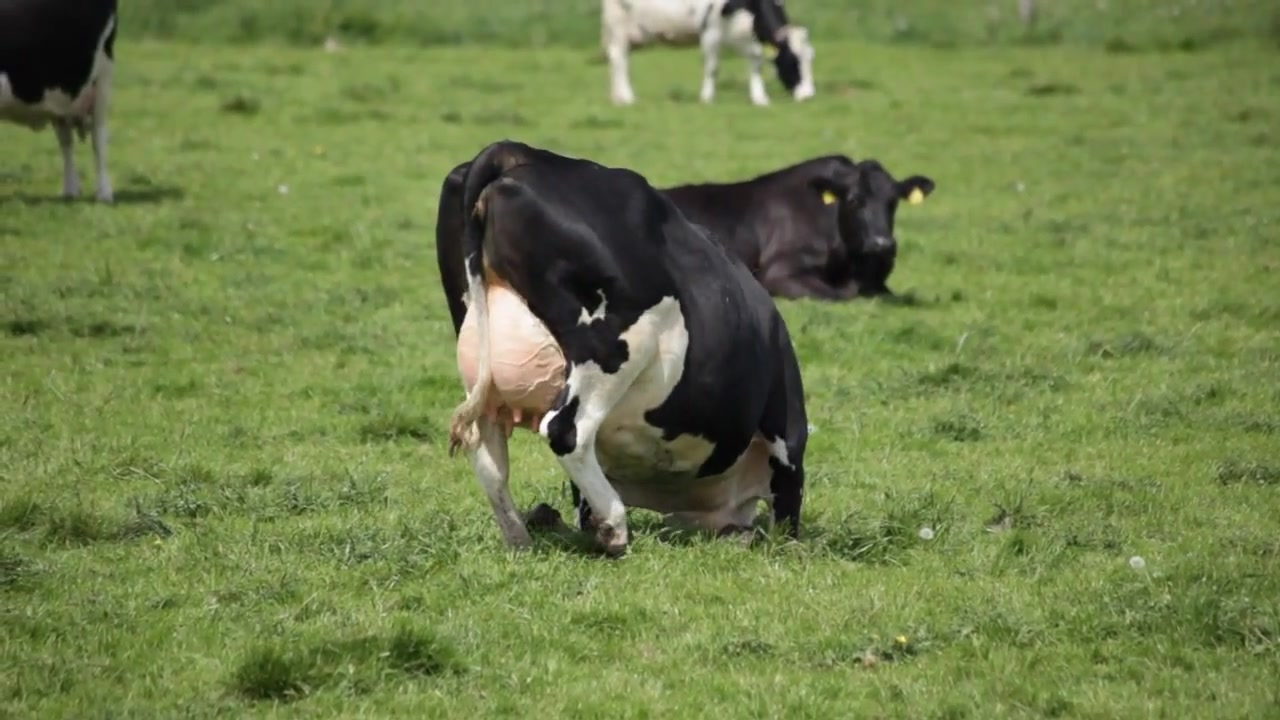cow: (429, 135, 809, 556)
